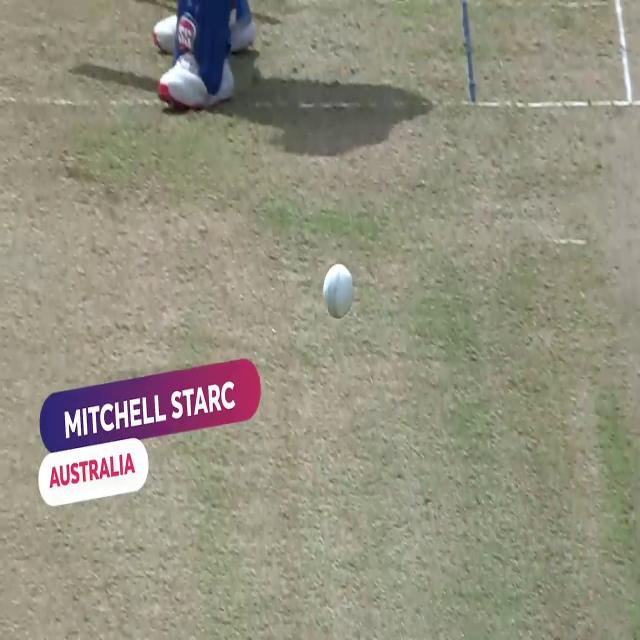ball: (316, 258, 363, 326)
